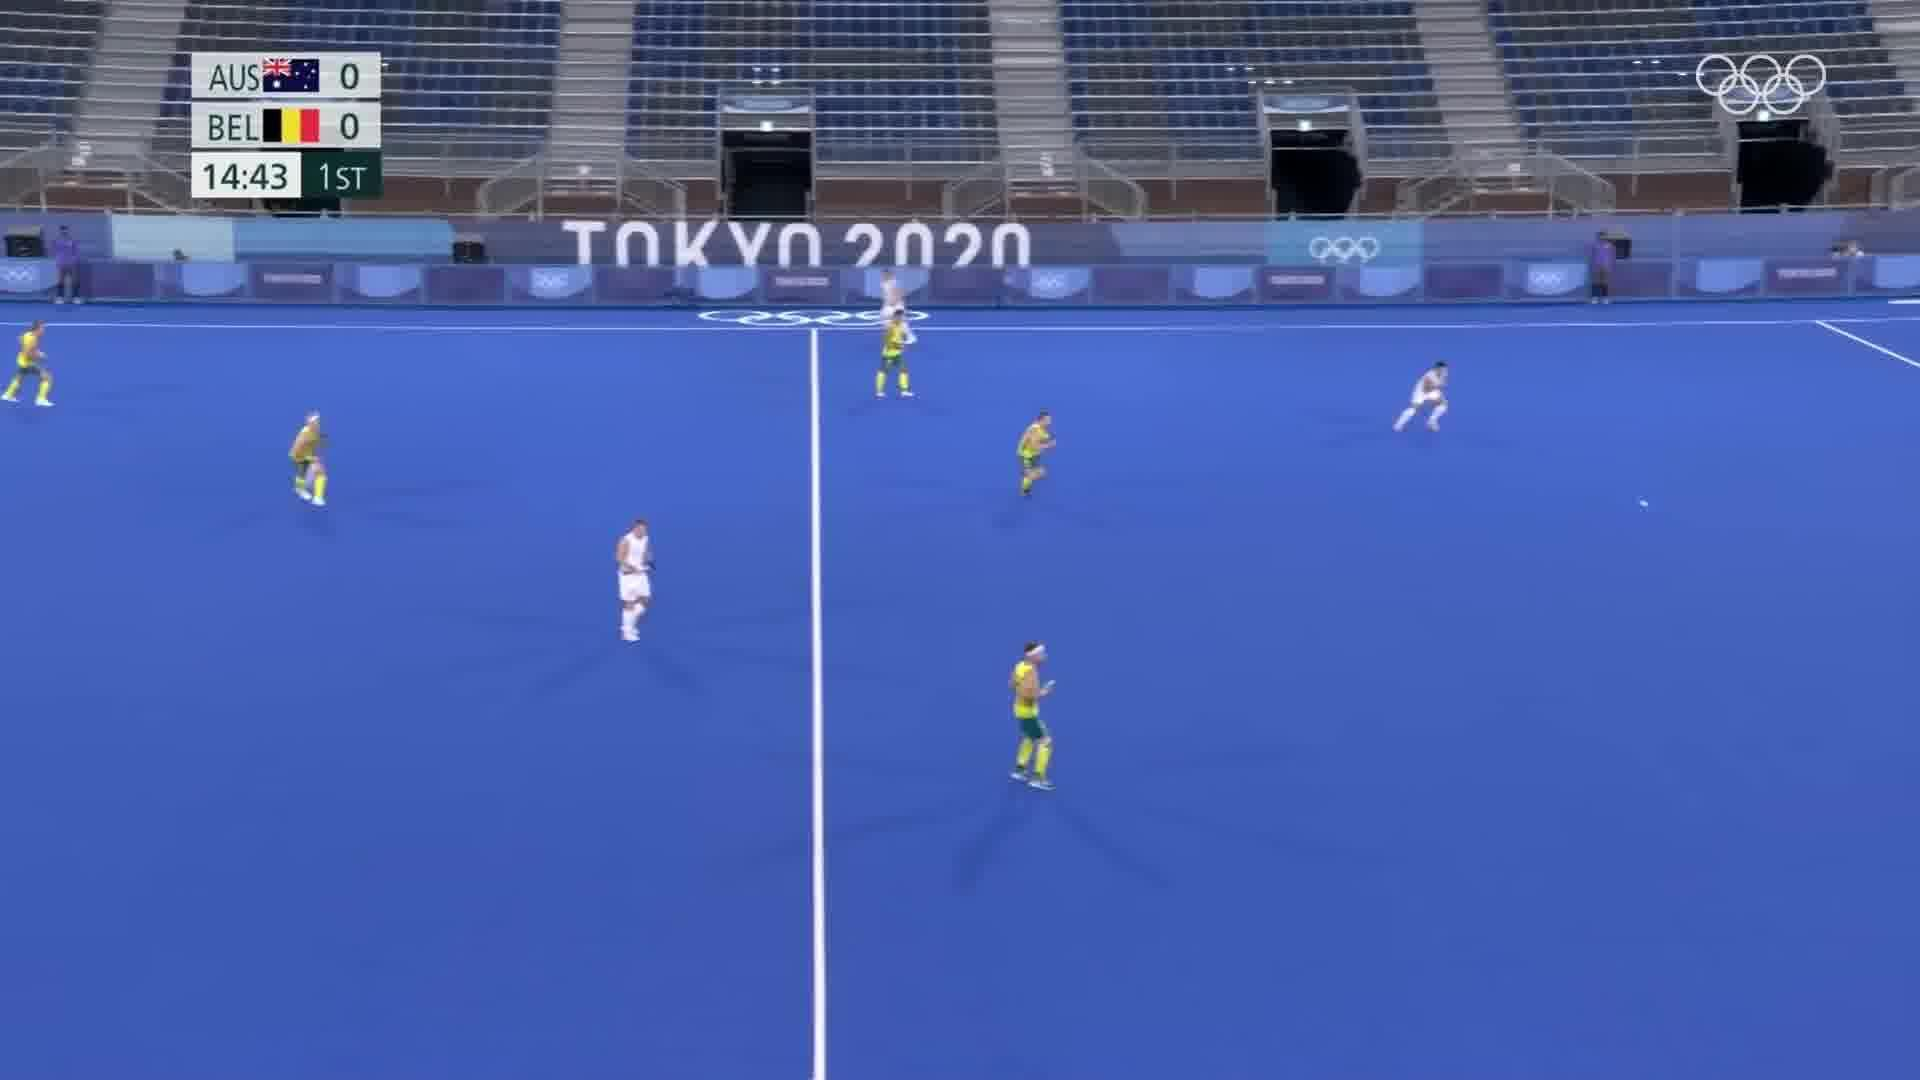ball: (1629, 489, 1655, 524)
